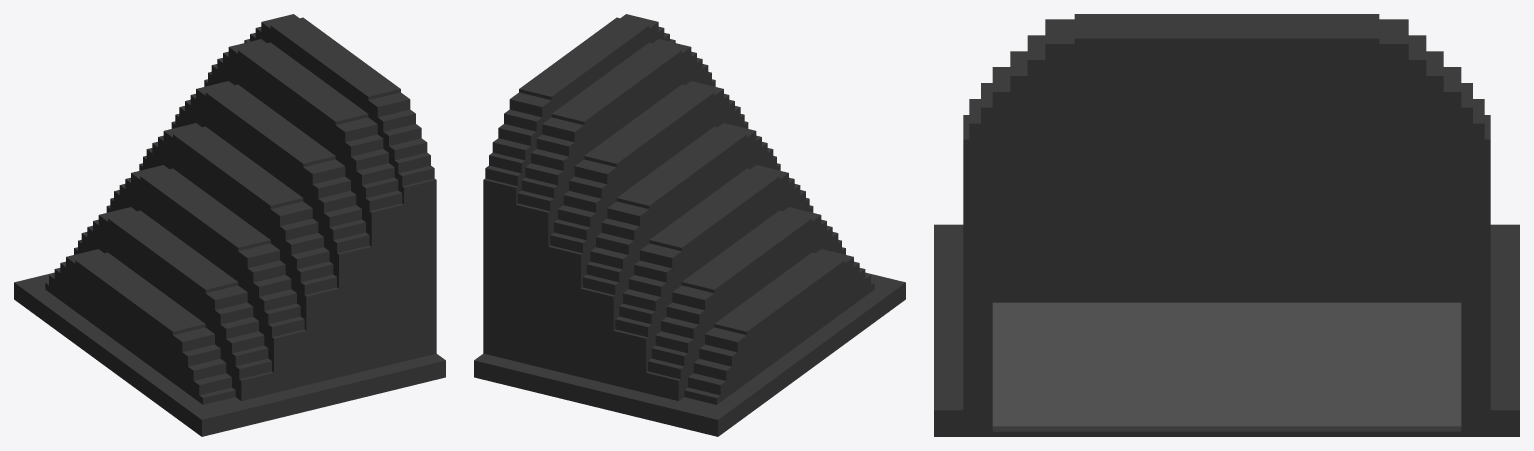
The model's file is TunnelEnd.obj.
3 renders of one model, left to right at view 1: azimuth 30°, elevation 25°; view 2: azimuth 150°, elevation 25°; view 3: azimuth 270°, elevation 25°, orthographic. The views are drawn at different scales.
Bounding box in the file's own units: 7.5 × 7.5 × 10.
1 material, 1 textured.
